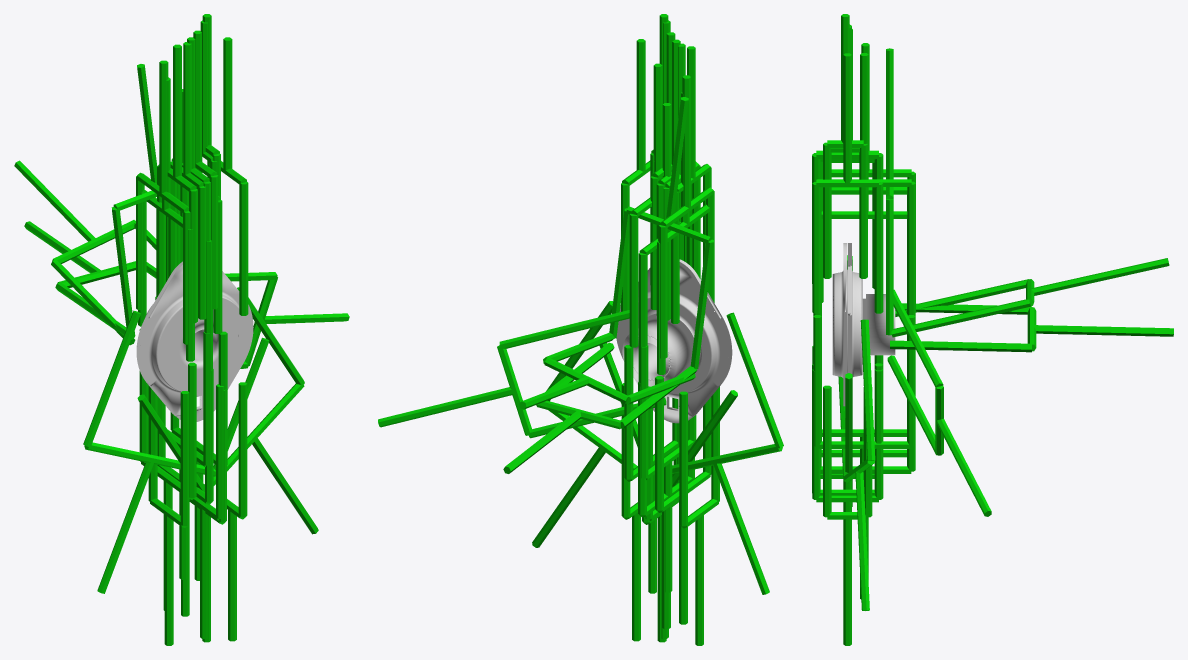
3 views of the same model, side by side, from view 1: azimuth 30°, elevation 25°; view 2: azimuth 150°, elevation 25°; view 3: azimuth 270°, elevation 25° (orthographic). The views are drawn at different scales.
Visible parts, largest first — view 1: world, 00897787_c5f559cb04c19358f5cfdd6b_step_000_0009.obj; view 2: world, 00897787_c5f559cb04c19358f5cfdd6b_step_000_0009.obj; view 3: world, 00897787_c5f559cb04c19358f5cfdd6b_step_000_0009.obj.
Part boxes in pixels (box(x1,y1,x2,y2)): world: box(14, 14, 349, 645); 00897787_c5f559cb04c19358f5cfdd6b_step_000_0009.obj: box(136, 261, 253, 421); world: box(378, 14, 783, 645); 00897787_c5f559cb04c19358f5cfdd6b_step_000_0009.obj: box(616, 259, 732, 423); world: box(812, 14, 1173, 645); 00897787_c5f559cb04c19358f5cfdd6b_step_000_0009.obj: box(832, 243, 895, 406).
Bounding box in the file's own units: 176 × 316 × 168.
